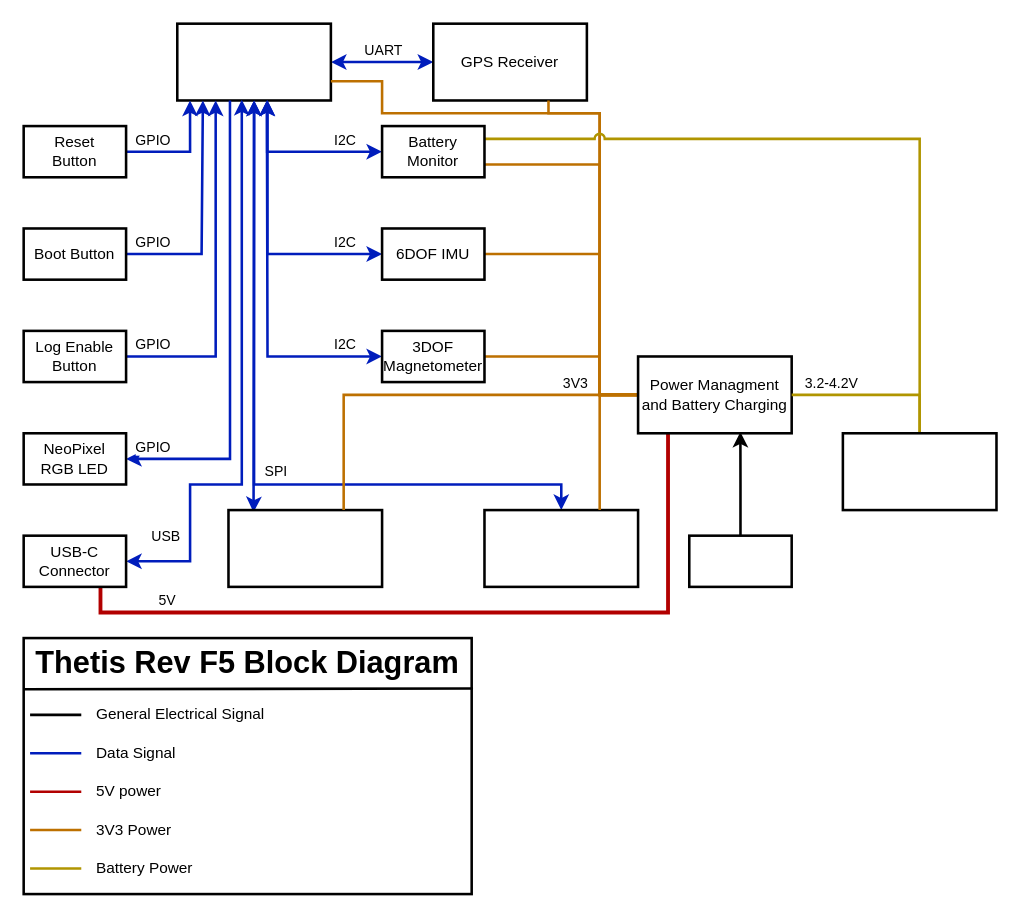
Some shapes in this 1019 by 916 pixel diagram are drawn without their labels. The shapes that lost their labels are listed below. From the top down, each one's box as (x1, y1, x2, y2) in pixels, then its label:
(175, 22, 332, 101): Microcontroller
(841, 431, 997, 511): Battery
(227, 508, 383, 588): Micro SD Card
(483, 508, 639, 588): XTSD Flash Memory
(687, 534, 792, 588): Power Switch
